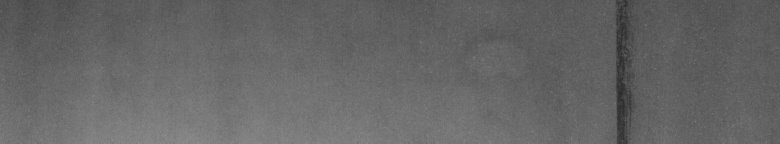hd: (609, 4, 636, 136)
